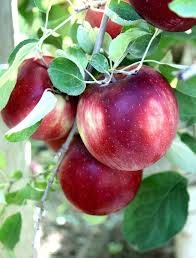apple: (79, 74, 174, 167), (61, 144, 143, 211)
